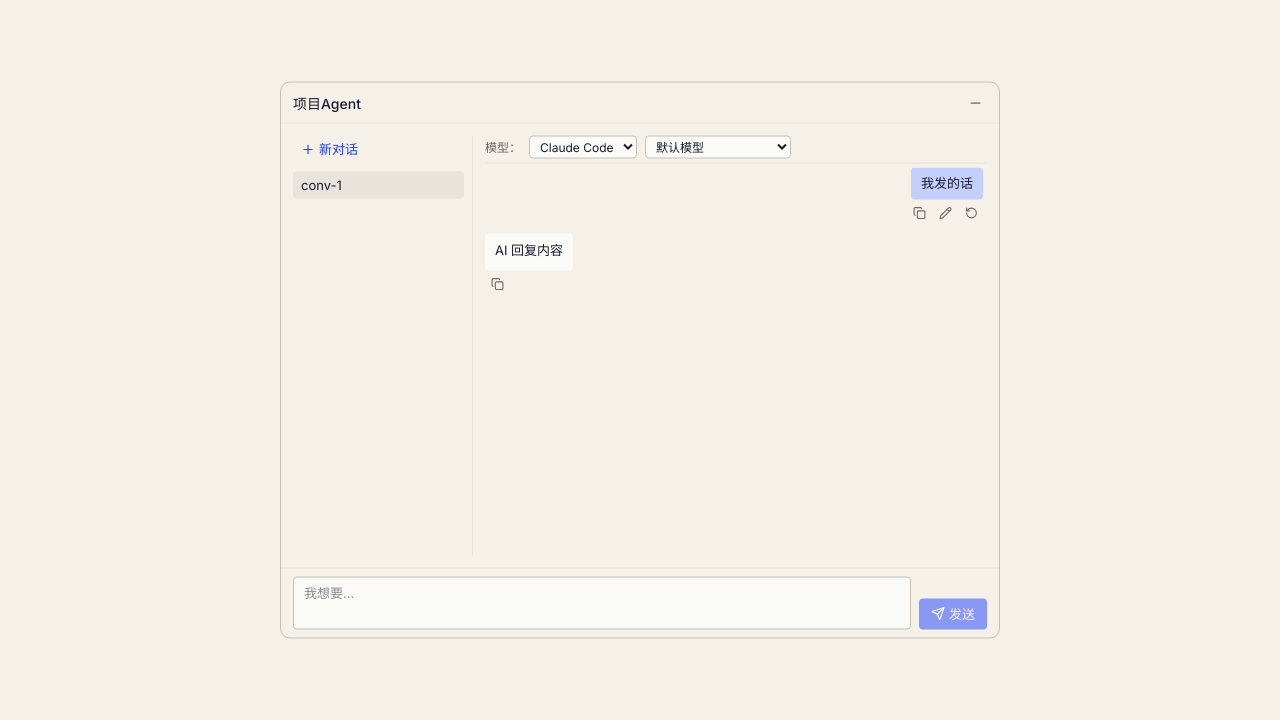
全局对话入口与面板 › 编辑最新用户消息 → 用户消息与其后 AI 回复一并消失、回填输入
Expected: the text "我发的话" is shown, [911,168,983,199]
Expected: the text "AI 回复内容" is shown, [495,239,563,260]
Click the button named "编辑" at (945, 213), box [933,201,957,225]
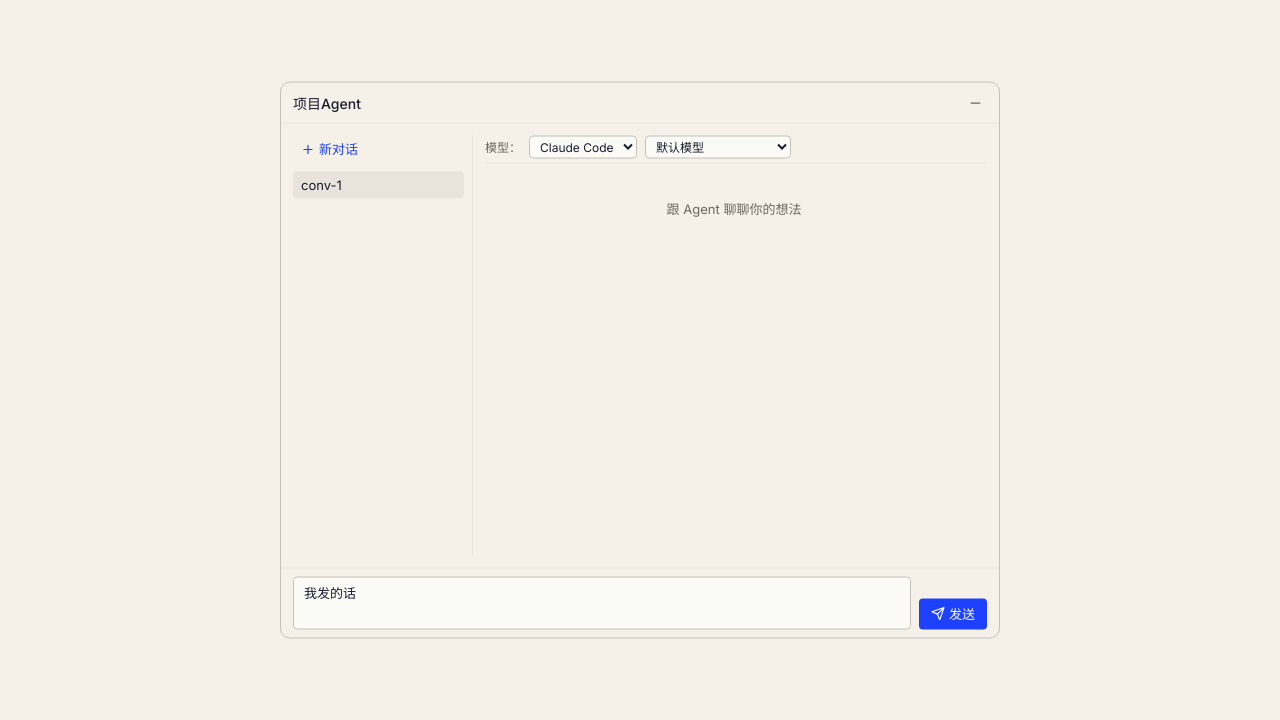
Now the text "AI 回复内容" is gone
